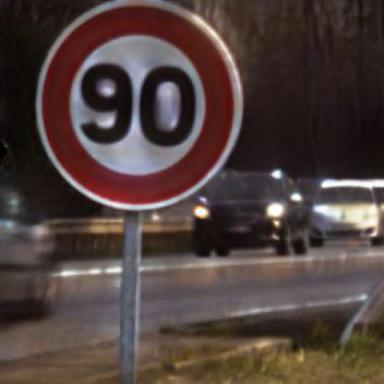Speed_limit_90: (44, 10, 235, 204)
